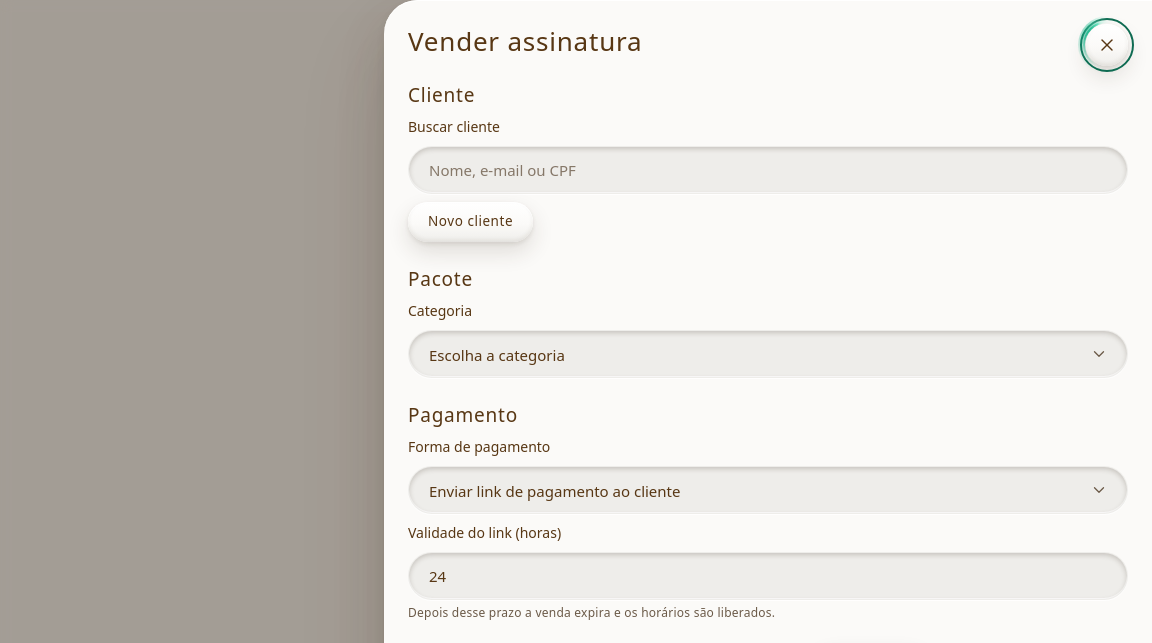
Test: SellSubscriptionDialog link payment (REC-150) › shows the quote summary: period, price, discount and what is due
The width and height of the screenshot is (1152, 643).
Type "camila" into the field labelled "Buscar cliente" at {"x": 768, "y": 170}, box [408, 146, 1128, 194]
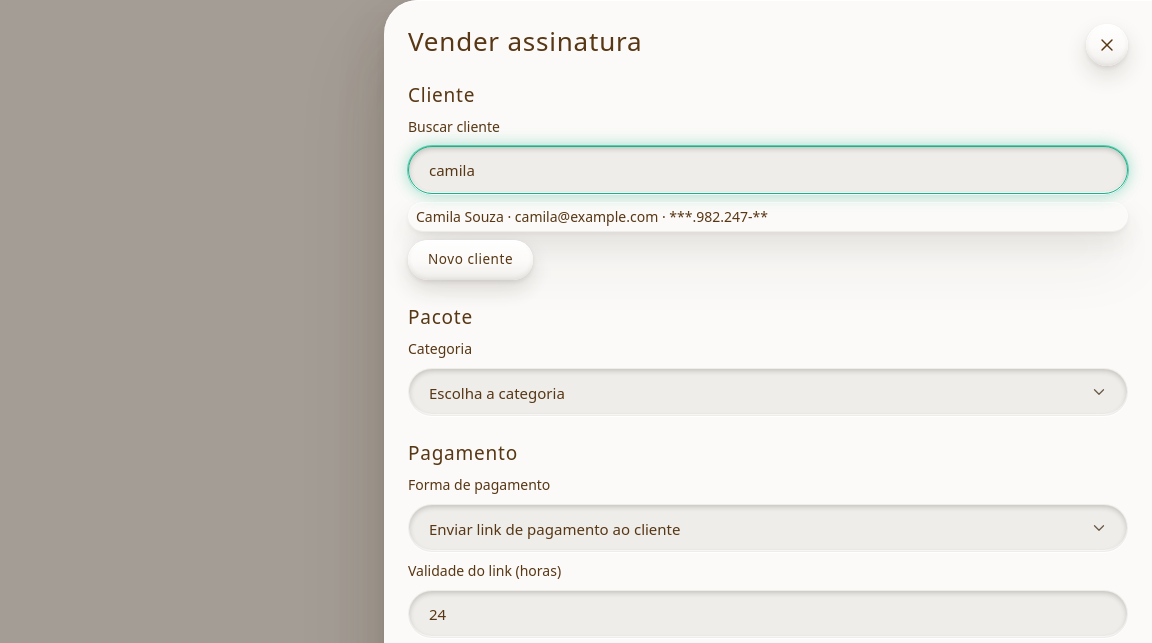
Click the button "Camila Souza · camila@example.com · ***.982.247-**" at {"x": 768, "y": 217}, box [408, 202, 1128, 232]
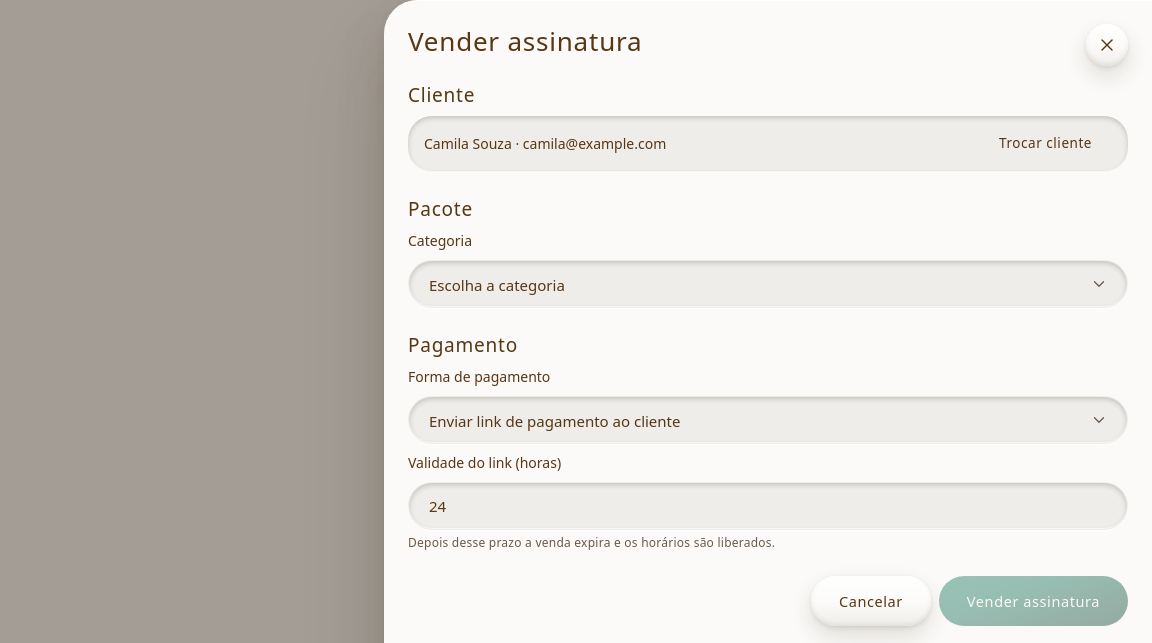
Select "Pacote 20h" in the dropdown labelled "Categoria" at {"x": 768, "y": 284}, box [408, 260, 1128, 308]
(page scrolled)
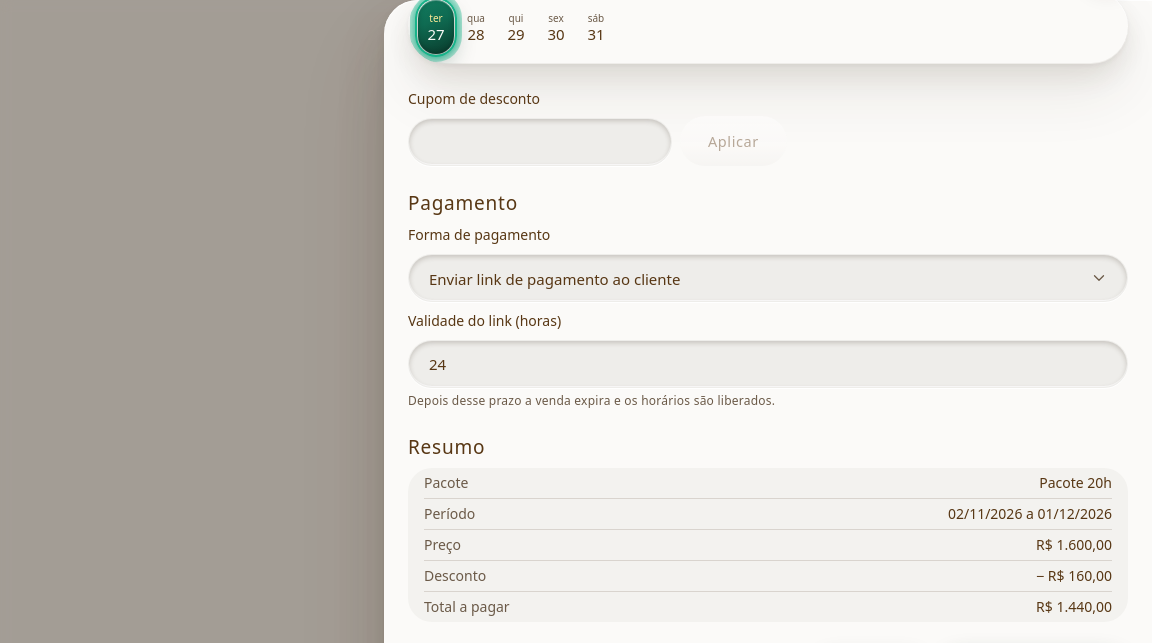
Expected: the text "Total a pagar" shows "02/11/2026 a 01/12/2026", [948, 504, 1112, 523]
Expected: the text "Total a pagar" shows "R$ 1.600,00", [1036, 535, 1112, 554]
Expected: the text "Total a pagar" shows "− R$ 160,00", [1036, 566, 1112, 585]
